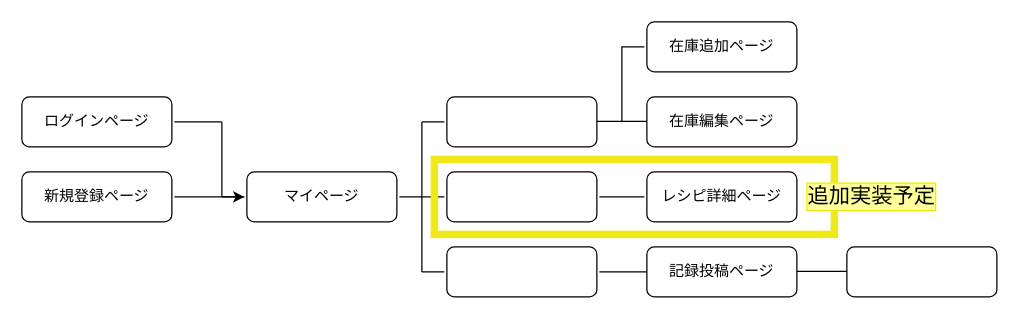
The diagram is 1019 pixels wide and 319 high, and some of its shapes have lost their labels. Each missing label, with the centre of its shape:
"レシピ検索ページ" goes at (x=521, y=196).
"在庫一覧ページ" goes at (x=521, y=121).
"料理記録ページ" goes at (x=521, y=271).
"記録編集ページ" goes at (x=921, y=271).
